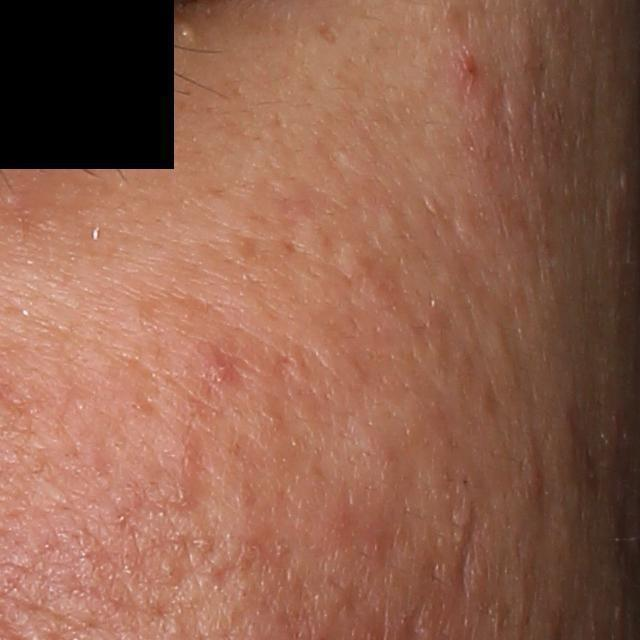atrophic_scar: (453, 501, 487, 598), (485, 79, 514, 137)
papule: (189, 335, 246, 396), (449, 48, 483, 90)
